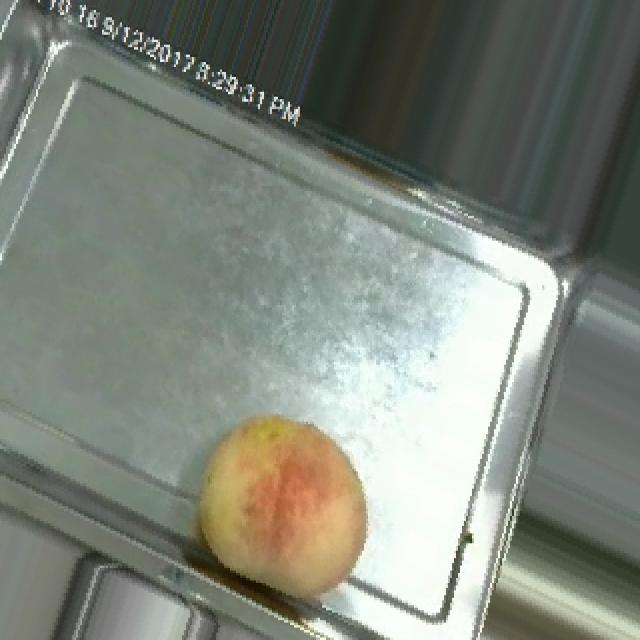Fruit: (158, 382, 404, 633)
